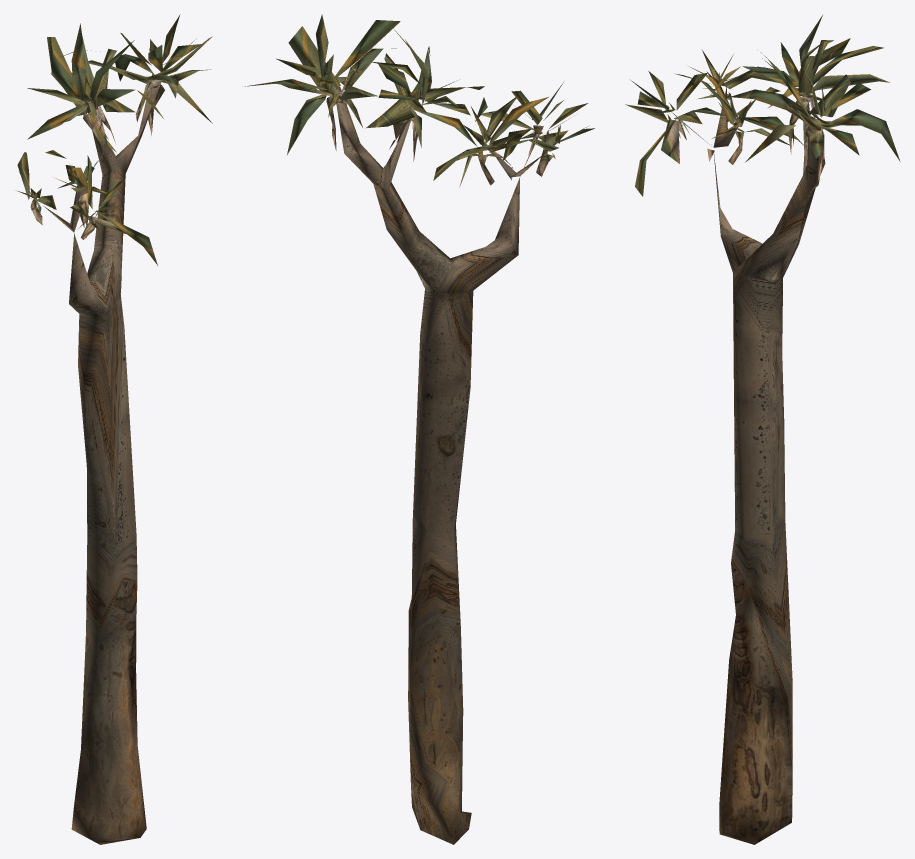
Rendered from ph_quiver_tree_01_lod.glb.
The picture shows the model from 3 angles, left to right: view 1: azimuth 30°, elevation 25°; view 2: azimuth 150°, elevation 25°; view 3: azimuth 270°, elevation 25°; orthographic projection. The views are drawn at different scales.
Visible parts, largest first — view 1: quiver_tree_01; view 2: quiver_tree_01; view 3: quiver_tree_01.
Part boxes in pixels (left/top/right/bottom): quiver_tree_01: left=16, top=14, right=212, bottom=844; quiver_tree_01: left=244, top=14, right=594, bottom=844; quiver_tree_01: left=625, top=15, right=900, bottom=844.
Size of the model in its own units: 0.9263 by 2.65 by 0.8048.
Materials: 2 (2 with a texture image).
